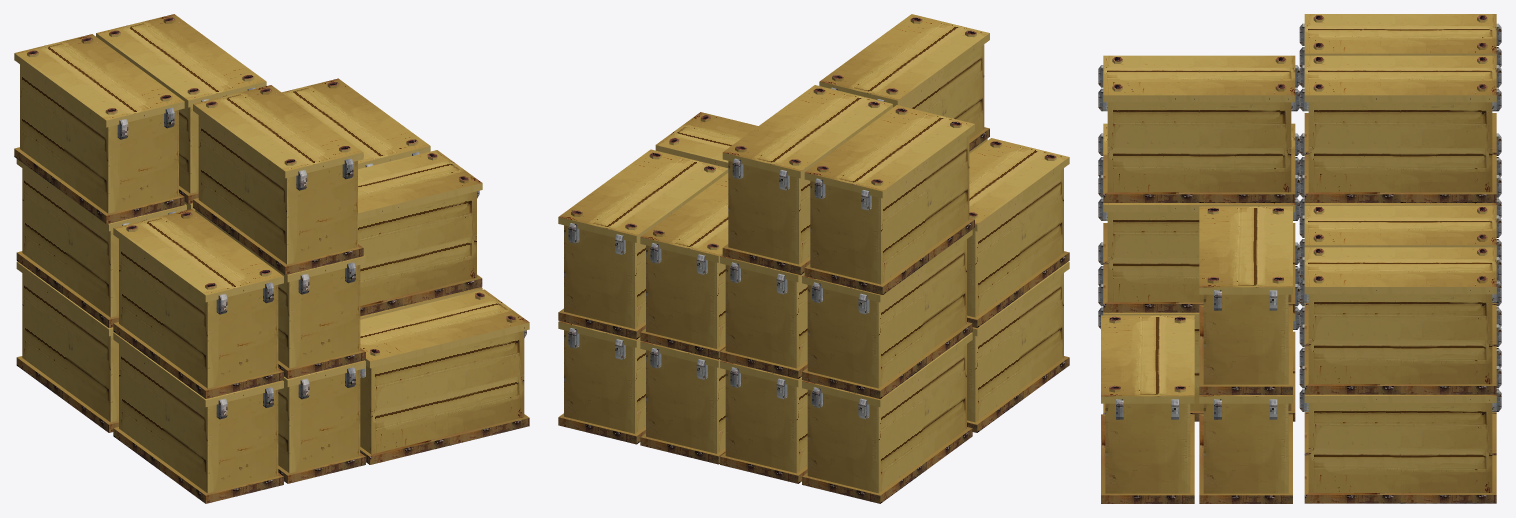
File: crate_large_stack01.glb
3 renders of one model, left to right at view 1: azimuth 30°, elevation 25°; view 2: azimuth 150°, elevation 25°; view 3: azimuth 270°, elevation 25°, orthographic. The views are drawn at different scales.
Parts seen in each view (by area): view 1: crate_large.014, crate_large.013, crate_large.009, crate_large.015, crate_large.011, crate_large.018, crate_large.003, crate_large.001, crate_large.008, crate_large.012, crate_large.010, crate_large.006; view 2: crate_large.009, crate_large.001, crate_large.003, crate_large.008, crate_large.006, crate_large.013, crate_large.007, crate_large.014, crate_large.011, crate_large, crate_large.002, crate_large.004 (+2 smaller); view 3: crate_large.008, crate_large.006, crate_large.014, crate_large.004, crate_large.015, crate_large.018, crate_large.012, crate_large.016, crate_large.007, crate_large.009, crate_large.010, crate_large.013 (+4 smaller).
Part boxes in pixels (x1,y1,x2,y2): crate_large.014: (193,85,363,274); crate_large.013: (113,209,283,398); crate_large.009: (14,34,184,224); crate_large.015: (360,289,529,464); crate_large.011: (113,332,283,503); crate_large.018: (358,150,482,316); crate_large.003: (16,159,186,327); crate_large.001: (16,261,118,432); crate_large.008: (96,14,266,204); crate_large.012: (195,209,365,378); crate_large.010: (278,360,365,483); crate_large.006: (282,78,430,169); crate_large.009: (804,105,974,294); crate_large.001: (802,332,972,503); crate_large.003: (802,229,972,398); crate_large.008: (722,85,892,274); crate_large.006: (558,149,728,339); crate_large.013: (967,138,1069,327); crate_large.007: (640,173,728,359); crate_large.014: (819,14,989,151); crate_large.011: (967,261,1069,432); crate_large: (720,360,807,483); crate_large.002: (720,255,807,378); crate_large.004: (558,321,645,444); crate_large.008: (1299,55,1501,202); crate_large.006: (1299,247,1501,394); crate_large.014: (1098,55,1300,202); crate_large.004: (1299,366,1501,503); crate_large.015: (1101,315,1194,503); crate_large.018: (1199,206,1292,394); crate_large.012: (1098,175,1300,312); crate_large.016: (1199,395,1292,503); crate_large.007: (1299,205,1501,346); crate_large.009: (1299,14,1501,154); crate_large.010: (1098,284,1299,421); crate_large.013: (1098,123,1300,264).
Size of the model in its own units: 14.96 by 13.69 by 15.27.
Materials: 1 (1 with a texture image).
